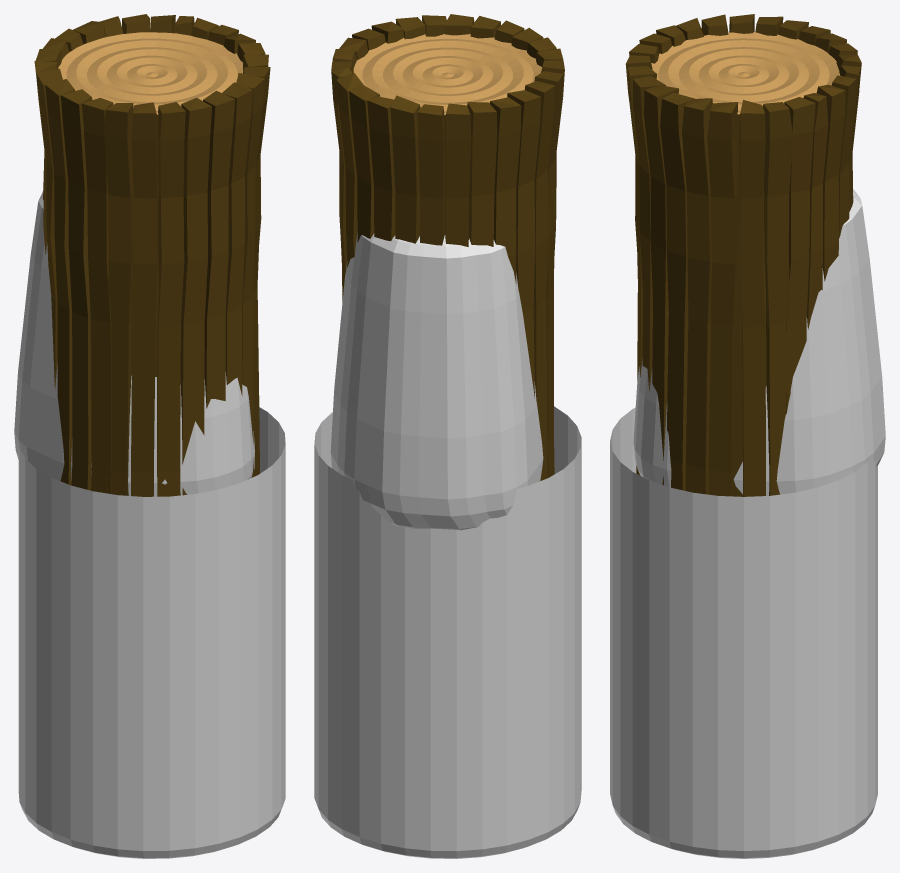
Rendered from Rocks.fbx.
The picture shows the model from 3 angles, left to right: view 1: azimuth 30°, elevation 25°; view 2: azimuth 150°, elevation 25°; view 3: azimuth 270°, elevation 25°; orthographic projection.
Visible parts, largest first — view 1: Circle, Cylinder, LogEnds, Cube.008, Cube.010, Cube.009, Cube, Cube.005, Cube.011, Cube.004, Cube.012, Cube.006 (+6 smaller); view 2: Circle, Cylinder, LogEnds, Cube.001, Cube.012, BigRock, Cube.004, Cube.002, Cube.003, Cube.006, Cube.007, Cube.005 (+5 smaller); view 3: Circle, Cylinder, Cube.001, LogEnds, Cube.003, Cube.013, Cube.014, Cube.002, Cube, Cube.007, Cube.006, Cube.010 (+6 smaller).
Part boxes in pixels (left/top/right/bottom): Circle: left=18, top=407, right=285, bottom=858; Cylinder: left=14, top=190, right=254, bottom=483; LogEnds: left=58, top=32, right=243, bottom=114; Cube.008: left=122, top=14, right=185, bottom=496; Cube.010: left=131, top=15, right=175, bottom=496; Cube.009: left=104, top=16, right=194, bottom=495; Cube: left=82, top=17, right=218, bottom=493; Cube.005: left=100, top=16, right=211, bottom=495; Cube.011: left=60, top=89, right=92, bottom=490; Cube.004: left=73, top=21, right=234, bottom=408; Cube.012: left=45, top=79, right=75, bottom=485; Cube.006: left=55, top=28, right=252, bottom=395; Circle: left=314, top=406, right=581, bottom=858; Cylinder: left=330, top=231, right=543, bottom=499; LogEnds: left=353, top=34, right=542, bottom=114; Cube.001: left=352, top=28, right=541, bottom=397; Cube.012: left=524, top=81, right=555, bottom=480; BigRock: left=330, top=453, right=543, bottom=530; Cube.004: left=390, top=16, right=500, bottom=243; Cube.002: left=395, top=17, right=497, bottom=246; Cube.003: left=371, top=21, right=521, bottom=283; Cube.006: left=417, top=14, right=474, bottom=245; Cube.007: left=422, top=15, right=471, bottom=246; Cube.005: left=367, top=20, right=524, bottom=240; Circle: left=610, top=407, right=877, bottom=858; Cylinder: left=633, top=189, right=885, bottom=481; Cube.001: left=707, top=16, right=783, bottom=496; LogEnds: left=651, top=32, right=840, bottom=114; Cube.003: left=682, top=20, right=808, bottom=494; Cube.013: left=739, top=100, right=765, bottom=496; Cube.014: left=763, top=102, right=792, bottom=495; Cube.002: left=660, top=26, right=830, bottom=490; Cube: left=676, top=18, right=815, bottom=413; Cube.007: left=644, top=33, right=846, bottom=485; Cube.006: left=633, top=43, right=857, bottom=391; Cube.010: left=639, top=33, right=845, bottom=281.
Size of the model in its own units: 274 by 844 by 282.
